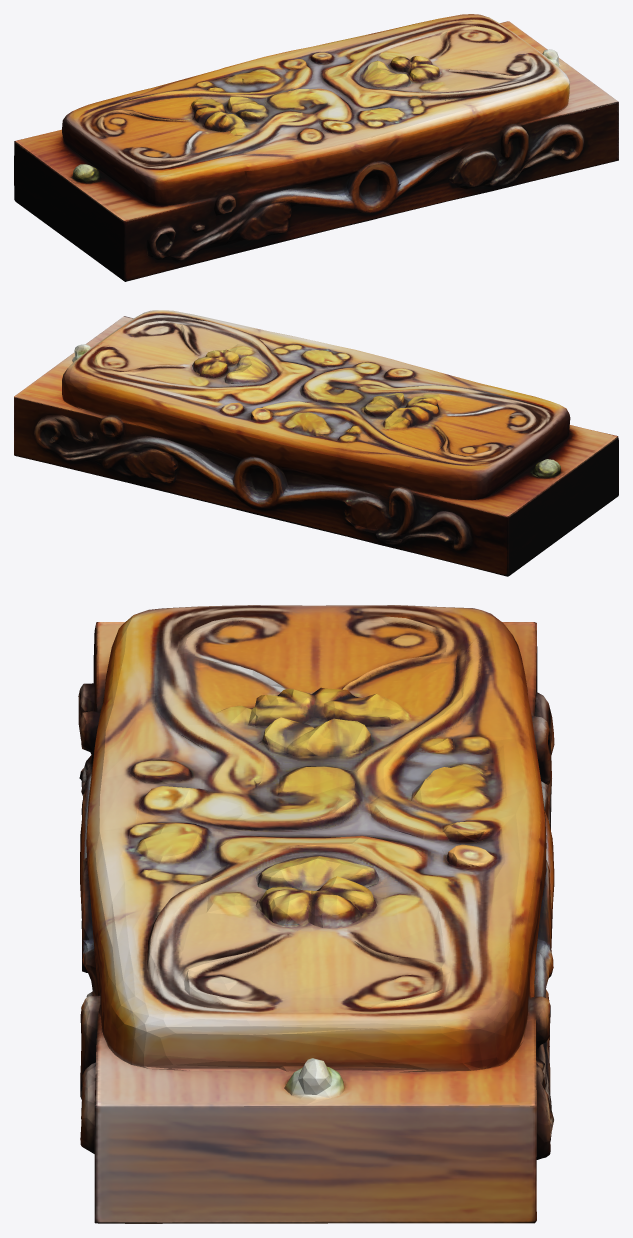
Rendered from wooden-harmonica-case-rustic.jpeg.glb.
3 views of the same model, one above another, from view 1: azimuth 30°, elevation 25°; view 2: azimuth 150°, elevation 25°; view 3: azimuth 270°, elevation 25° (orthographic). The views are drawn at different scales.
Parts seen in each view (by area): view 1: world; view 2: world; view 3: world.
Boxes of the visible parts, left/top/right/bottom form: world: left=14, top=14, right=618, bottom=281; world: left=14, top=310, right=618, bottom=576; world: left=78, top=605, right=554, bottom=1223.
Size of the model in its own units: 1 by 0.1858 by 0.4167.
1 material, 1 textured.
